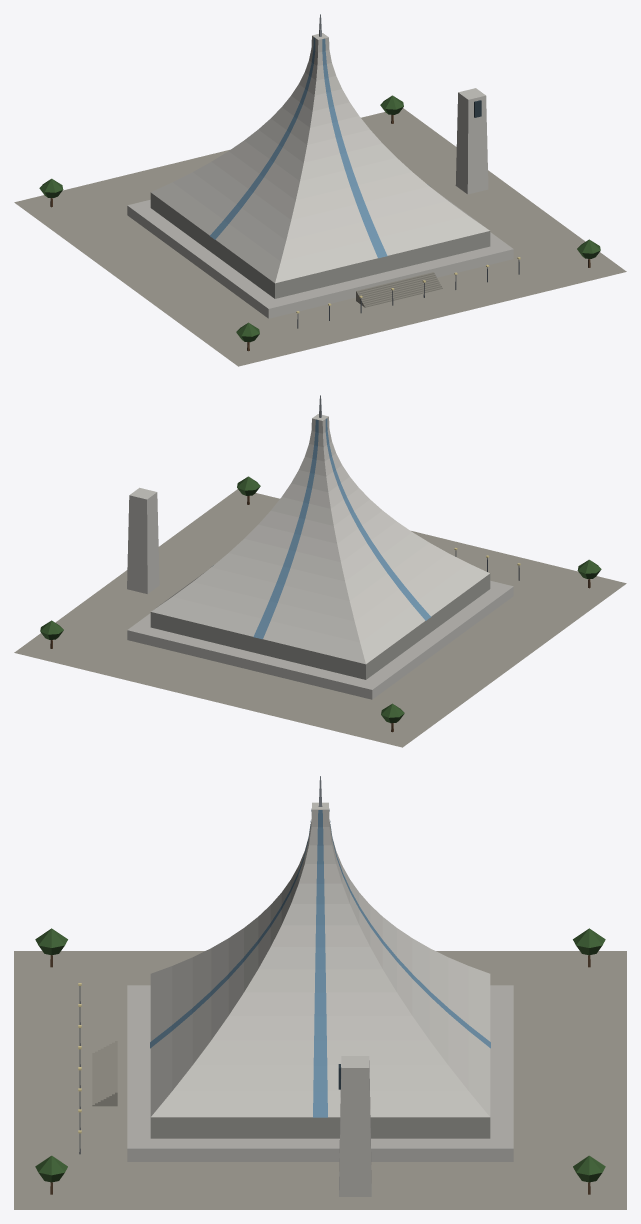
File: desktop.glb
3 views of the same model, one above another, from view 1: azimuth 30°, elevation 25°; view 2: azimuth 150°, elevation 25°; view 3: azimuth 270°, elevation 25° (orthographic). The views are drawn at different scales.
Visible parts, largest first — view 1: lm.saint-mary-cathedral; view 2: lm.saint-mary-cathedral; view 3: lm.saint-mary-cathedral.
Boxes of the visible parts, box(x1,y1,x2,y2) form: lm.saint-mary-cathedral: box(14, 14, 626, 366); lm.saint-mary-cathedral: box(14, 395, 626, 747); lm.saint-mary-cathedral: box(14, 776, 626, 1209).
Bounding box in the file's own units: 130 × 73.2 × 130.
